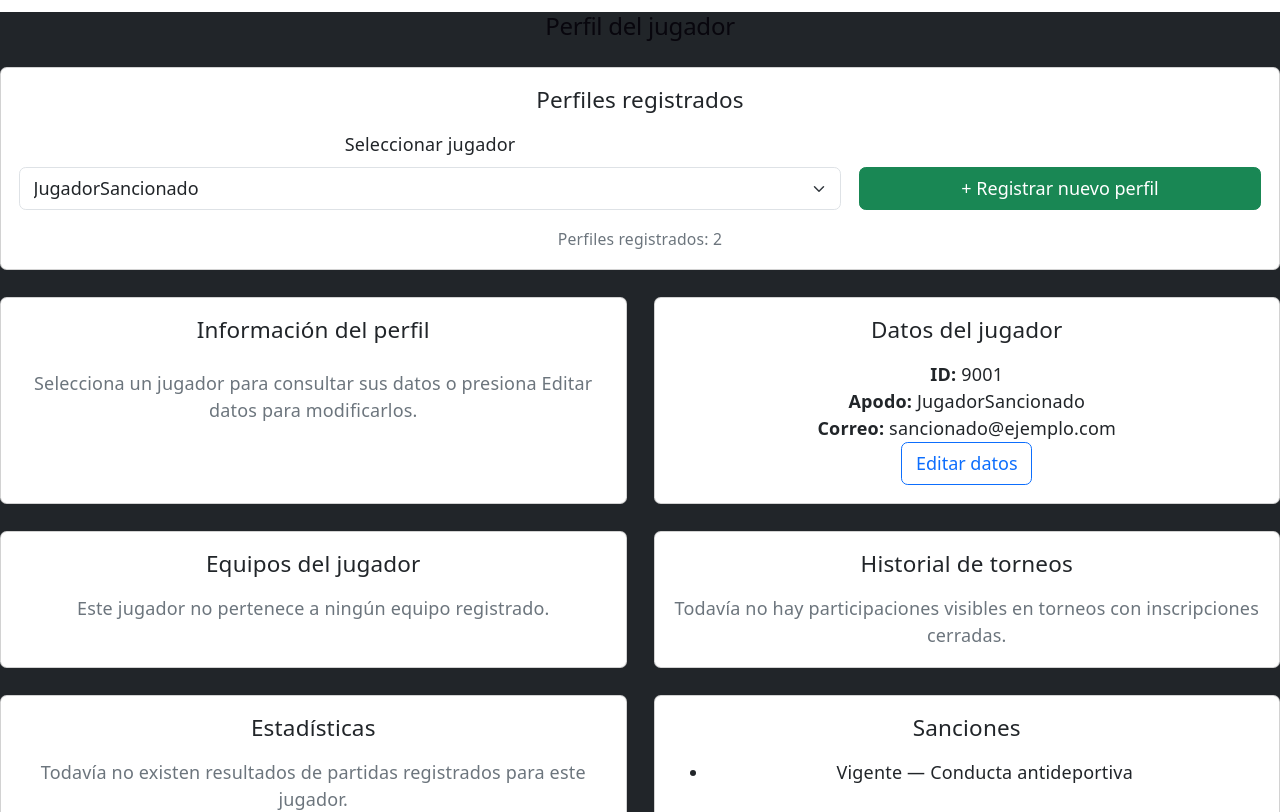
Scenario: Pruebas de sanciones en Perfil › muestra las sanciones del jugador seleccionado
Check: the list item "Vigente — Conducta antideportiva" is shown, box 836,760 -> 1133,784
Select "JugadorCumplido" in the dropdown labelled "Seleccionar jugador" at (430, 189), box 19,167 -> 841,210
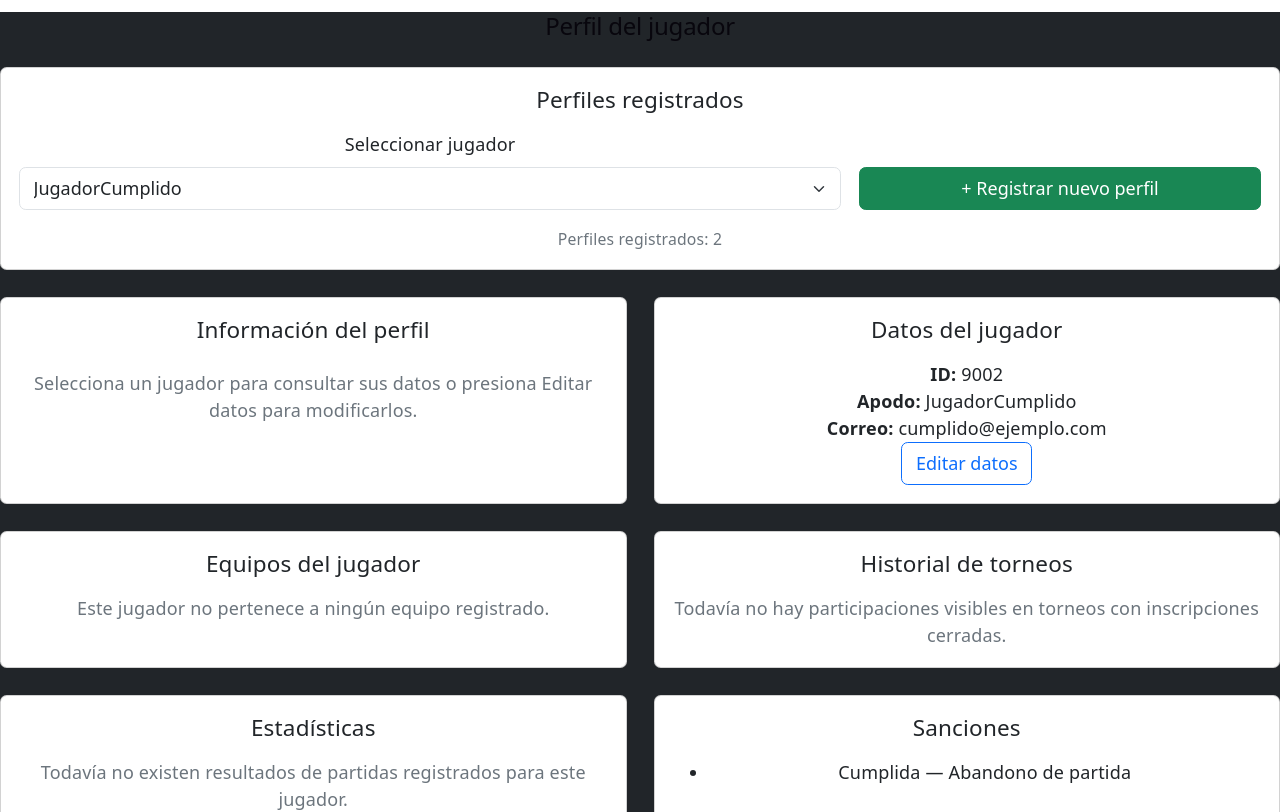
Check: the list item "Conducta antideportiva" is gone
Check: the list item "Cumplida — Abandono de partida" is shown, box 838,760 -> 1131,784
